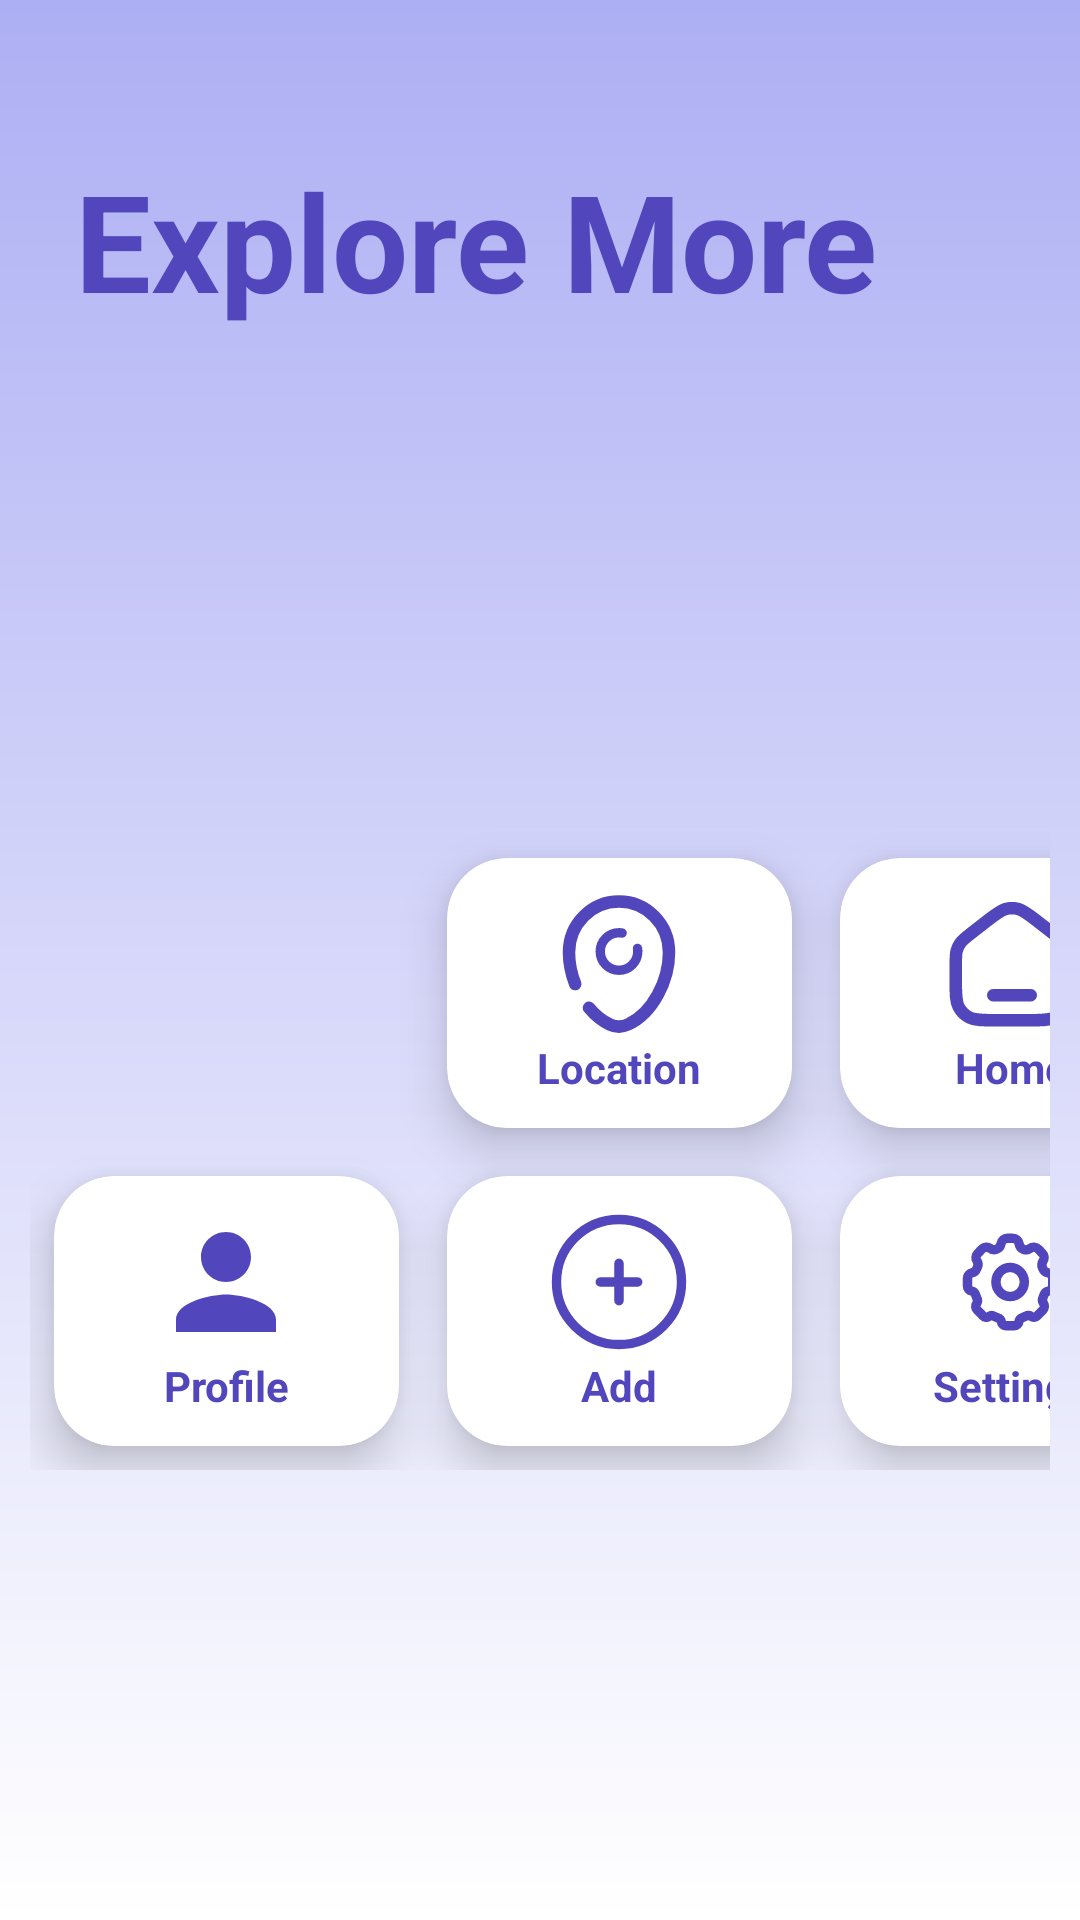

Icons on this 1080w x 1920h Android screen, each with its box as (x1, y1, x2, y2):
addincomeicon: (551, 1214, 687, 1350)
mapicon: (562, 895, 676, 1033)
person: (176, 1232, 276, 1332)
